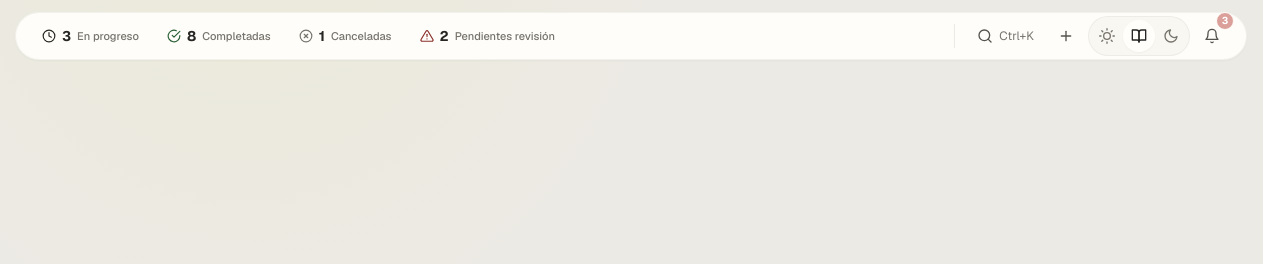
Test: SmartHeaderBar › opens the alert popover with alert list on click
The image size is (1263, 264).
Step 1. Click the button named "3 alertas sin reconocer" → (1212, 36), box [1194, 16, 1230, 56]
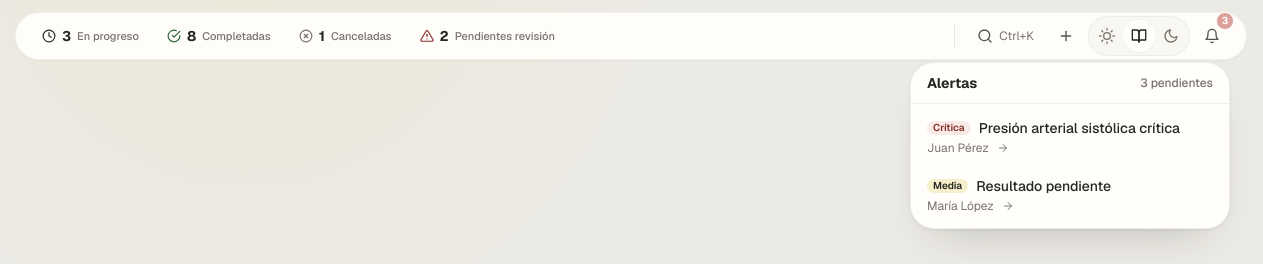
Expected: the text "Presión arterial sistólica crítica" is shown, [979, 118, 1180, 138]
Expected: the text "Juan Pérez" is shown, [927, 140, 989, 156]
Expected: the text "Resultado pendiente" is shown, [976, 176, 1111, 196]
